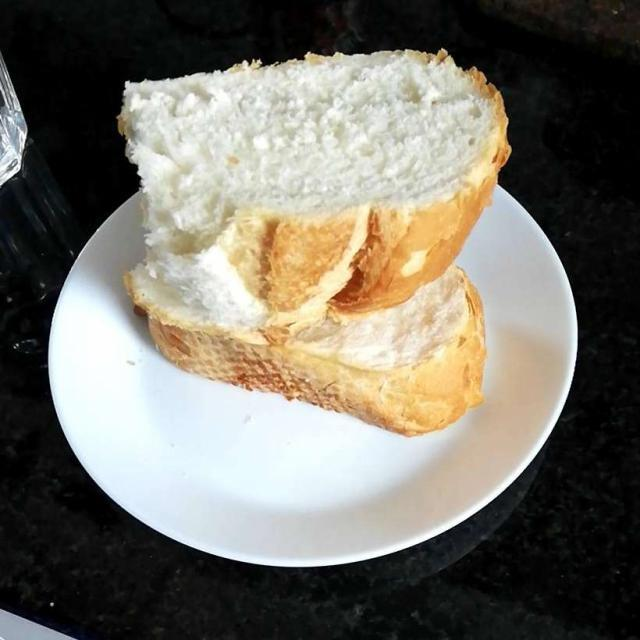bread: (128, 49, 505, 431)
